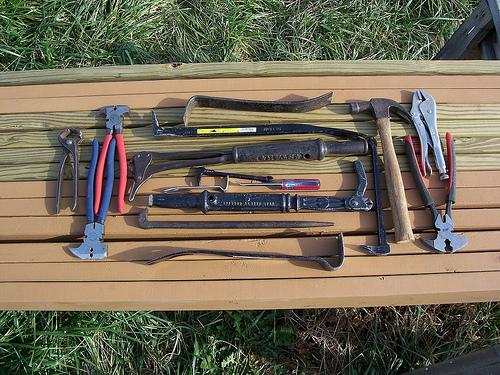hammer: (347, 95, 416, 244)
